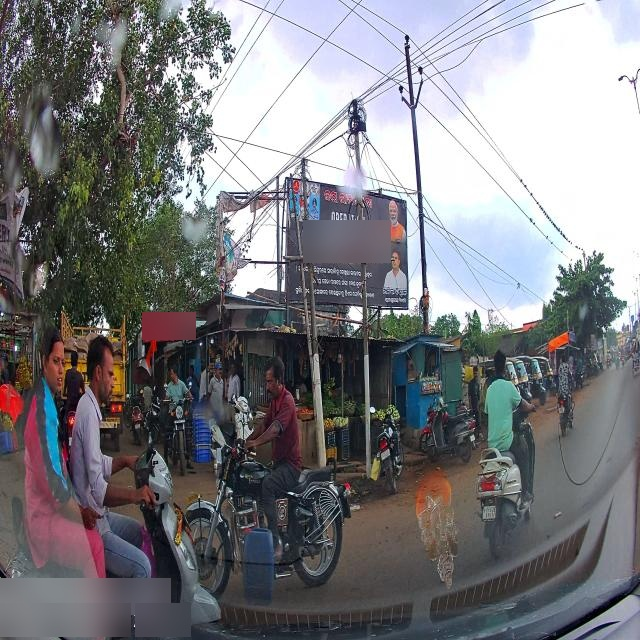pothole: (543, 404, 560, 415)
